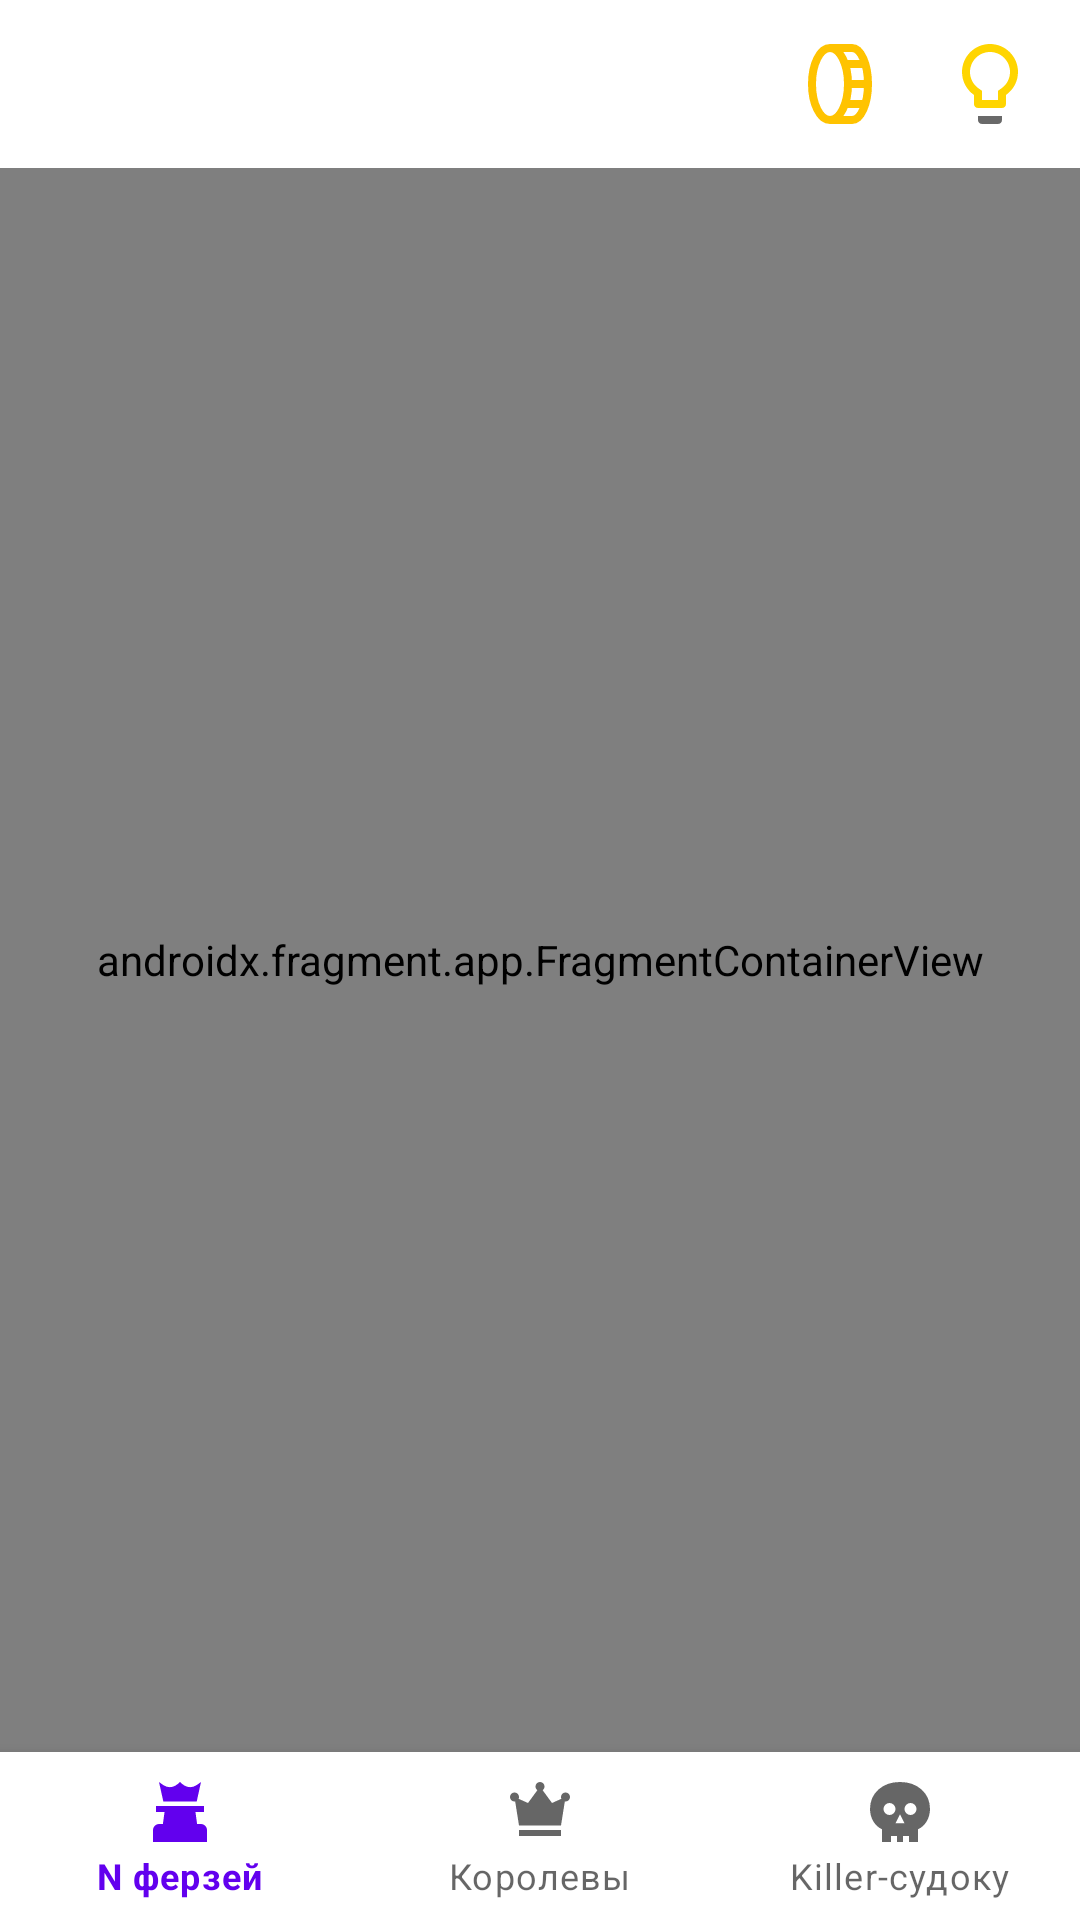

Point at icon controls on the screen. Image size 1080x1920, points as point (x, y).
Монетки: point (840, 84)
Подсказки: point (990, 84)
